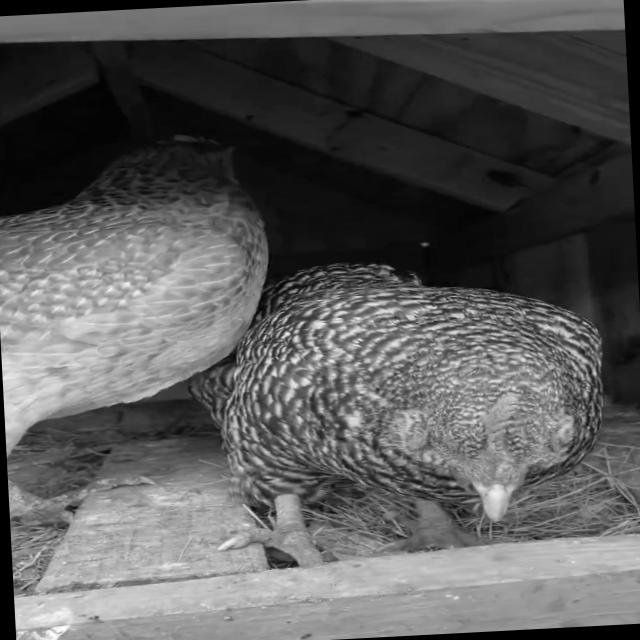pecking: (202, 199, 640, 563)
